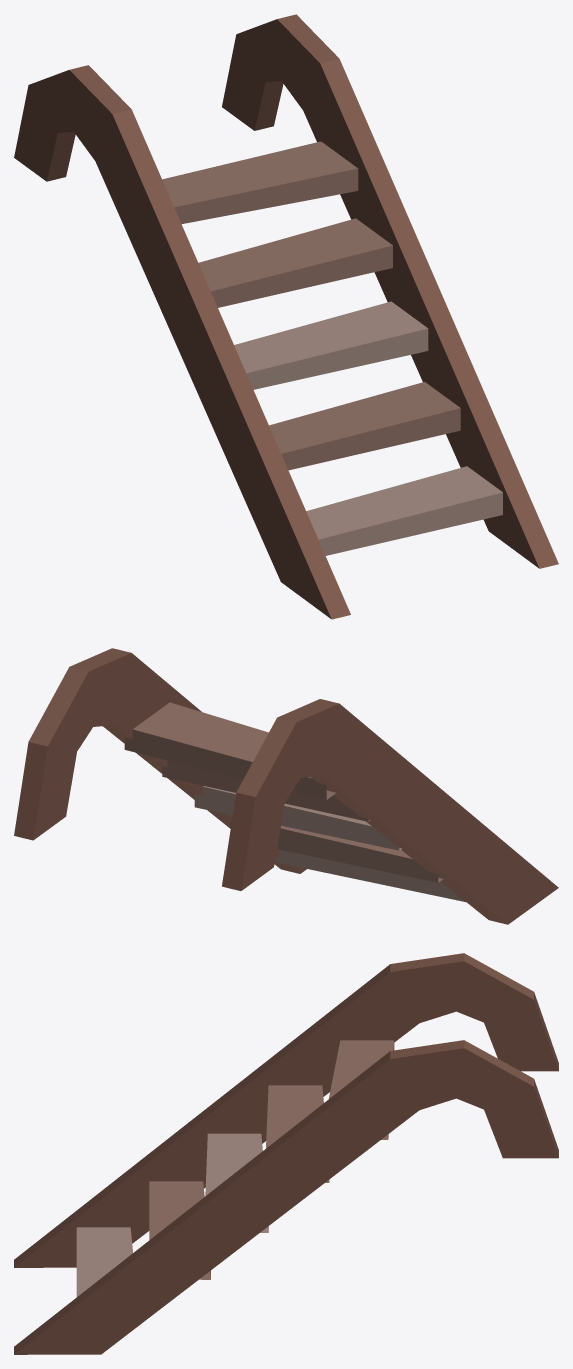
The model's file is props_025.glb.
The picture shows the model from 3 angles, top to bottom: view 1: azimuth 30°, elevation 25°; view 2: azimuth 150°, elevation 25°; view 3: azimuth 270°, elevation 25°; orthographic projection. The views are drawn at different scales.
Parts seen in each view (by area): view 1: props_025; view 2: props_025; view 3: props_025.
Boxes of the visible parts, x1,y1,x2,y2 form: props_025: [14, 14, 558, 619]; props_025: [14, 648, 558, 924]; props_025: [14, 953, 558, 1354].
Size of the model in its own units: 1.63 by 2.46 by 3.96.
Materials: 1 (1 with a texture image).
